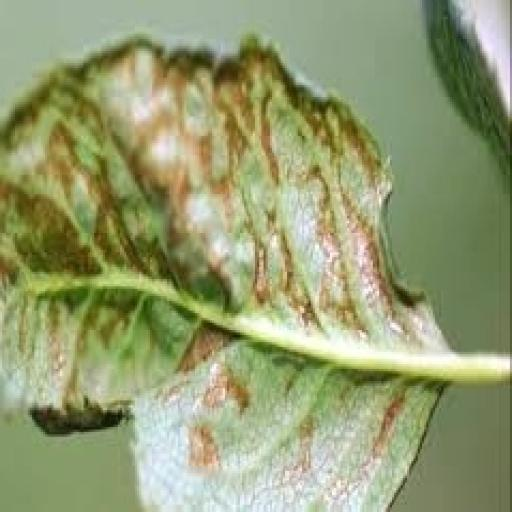thrip: (0, 39, 508, 507)
